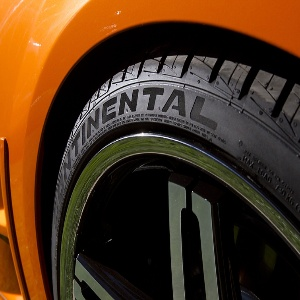train: (42, 23, 300, 291)
